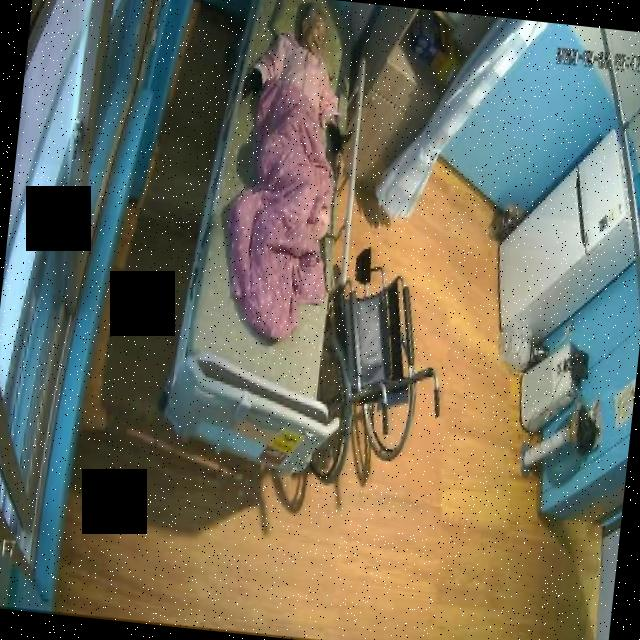bed: (163, 0, 369, 470)
lie: (213, 0, 358, 349)
patient: (236, 0, 363, 153)
